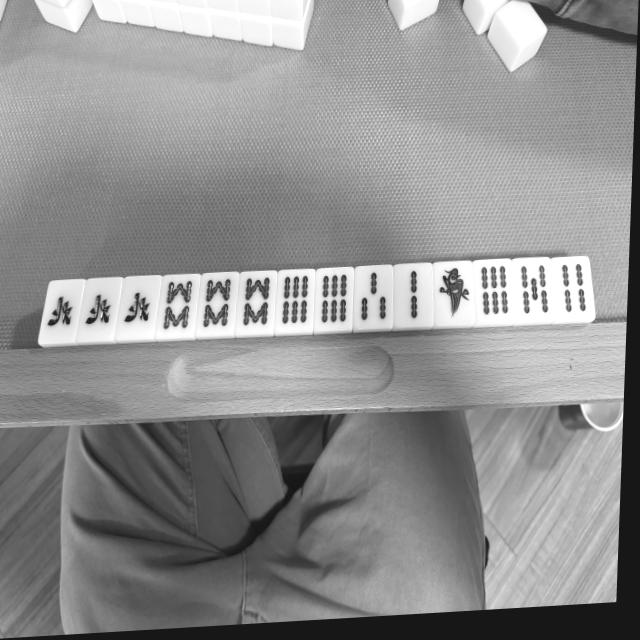north: (43, 284, 78, 340), (82, 283, 115, 340), (121, 282, 154, 336)
s1: (434, 264, 470, 326)
s2: (395, 266, 430, 325)
s3: (356, 269, 391, 327)
s4: (556, 260, 592, 319)
s5: (514, 259, 550, 321)
s6: (475, 261, 511, 324), (317, 270, 352, 329), (279, 272, 313, 330)
s8: (199, 274, 234, 332), (239, 273, 274, 331), (159, 276, 194, 333)
